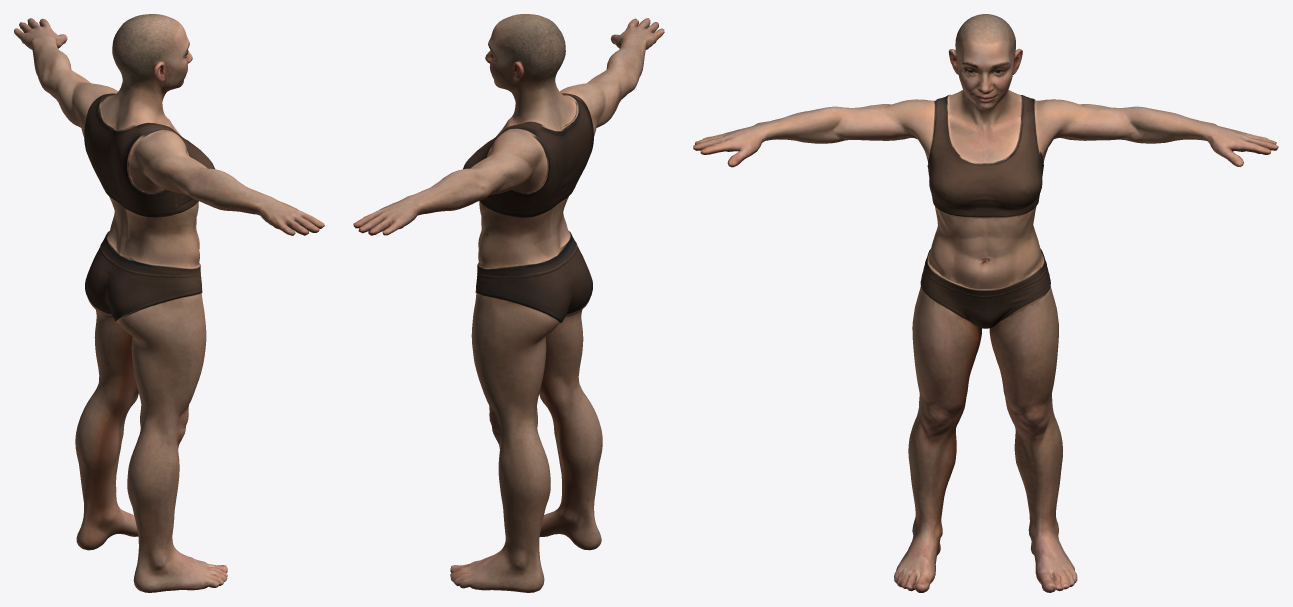
3 renders of one model, left to right at view 1: azimuth 30°, elevation 25°; view 2: azimuth 150°, elevation 25°; view 3: azimuth 270°, elevation 25°, orthographic.
Visible parts, largest first — view 1: tripo_node_bee7a114-148b-455c-b54c-a84c2b5325b1; view 2: tripo_node_bee7a114-148b-455c-b54c-a84c2b5325b1; view 3: tripo_node_bee7a114-148b-455c-b54c-a84c2b5325b1.
Part boxes in pixels (left/top/right/bottom): tripo_node_bee7a114-148b-455c-b54c-a84c2b5325b1: left=14, top=14, right=324, bottom=592; tripo_node_bee7a114-148b-455c-b54c-a84c2b5325b1: left=353, top=14, right=664, bottom=592; tripo_node_bee7a114-148b-455c-b54c-a84c2b5325b1: left=693, top=14, right=1278, bottom=592.
Size of the model in its own units: 0.179 by 0.9798 by 0.9373.
Materials: 1 (1 with a texture image).
